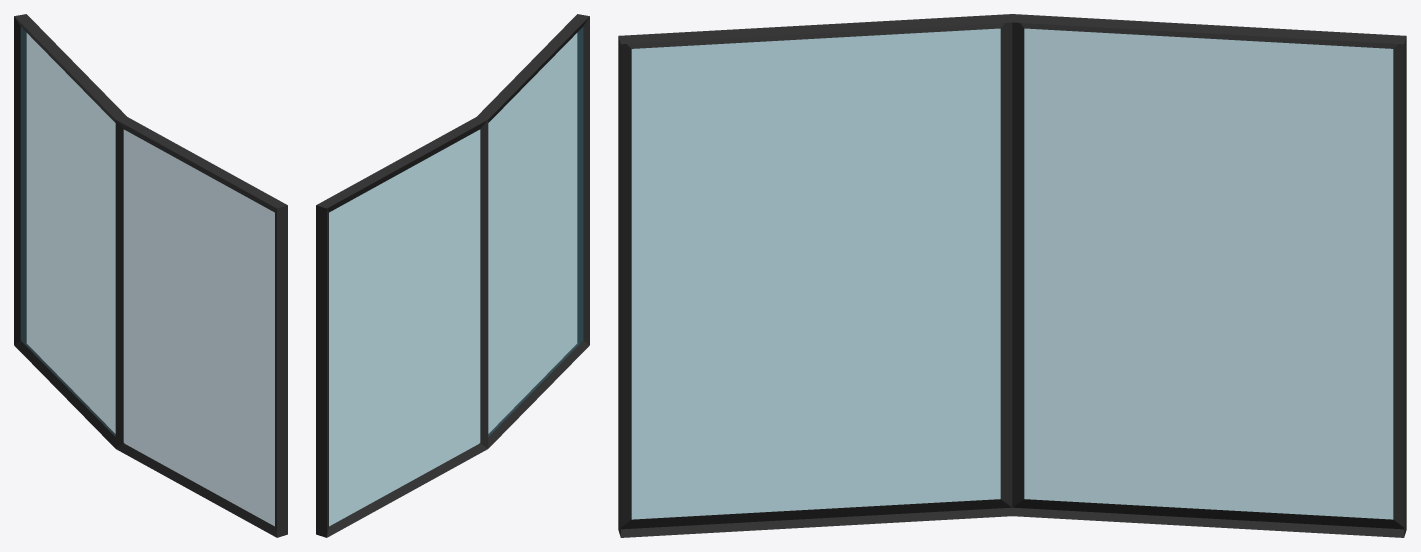
Rendered from ventanalB.DAE.
3 renders of one model, left to right at view 1: azimuth 30°, elevation 25°; view 2: azimuth 150°, elevation 25°; view 3: azimuth 270°, elevation 25°, orthographic. The views are drawn at different scales.
Parts seen in each view (by area): view 1: ventanalB; view 2: ventanalB; view 3: ventanalB.
Part boxes in pixels (x1,y1,x2,y2): ventanalB: [14, 14, 287, 537]; ventanalB: [316, 14, 589, 537]; ventanalB: [618, 14, 1406, 537].
Size of the model in its own units: 0.3556 by 3.91 by 2.7.
